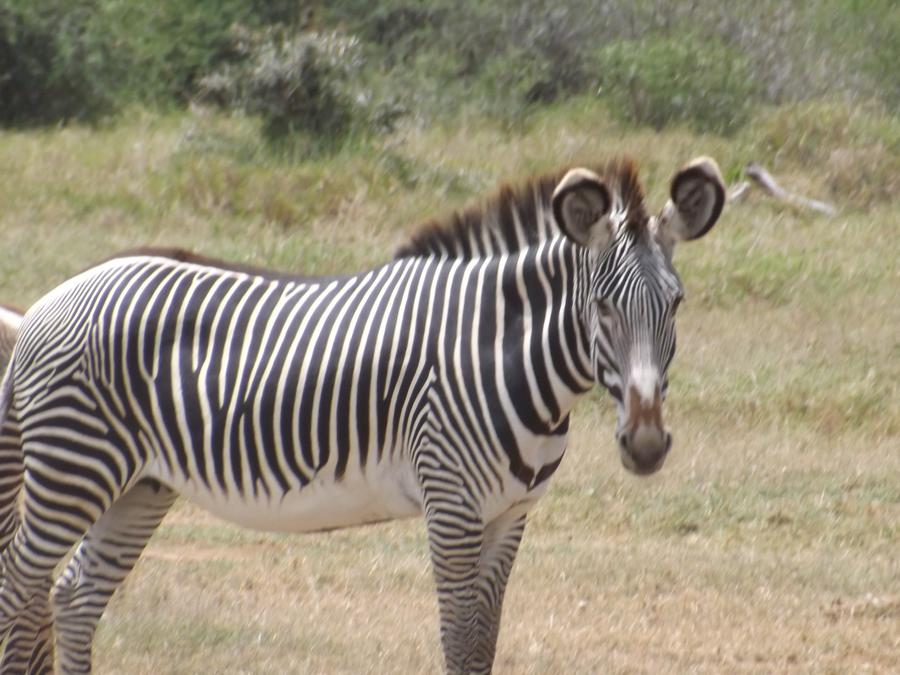zebra_grevys: (19, 228, 502, 528)
